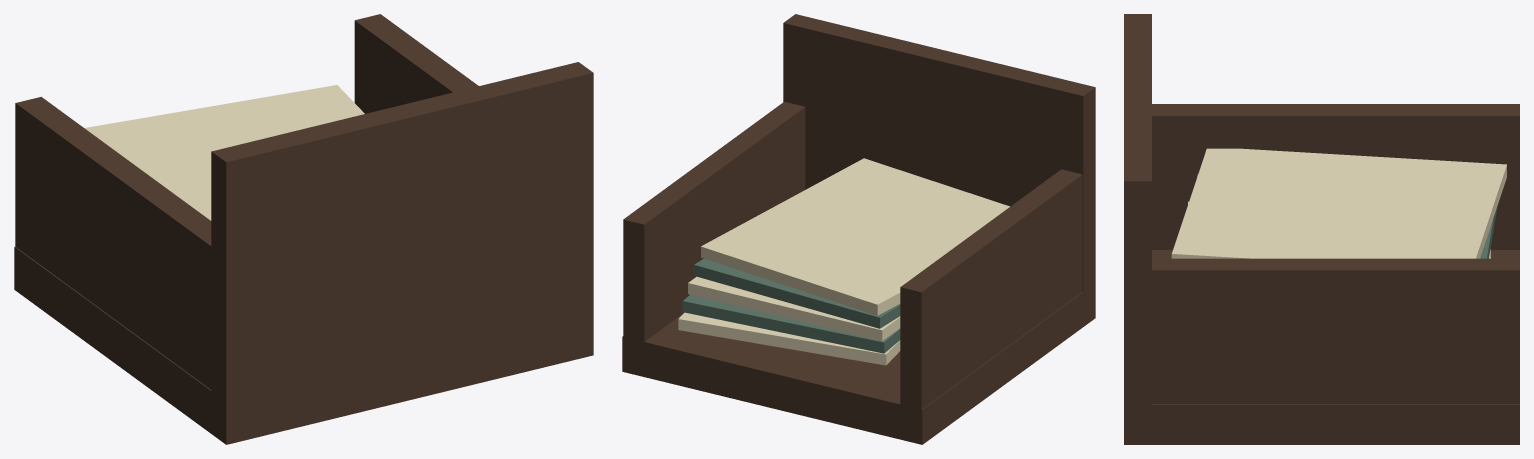
Rendered from LP_BrochureTray.fbx.
3 renders of one model, left to right at view 1: azimuth 30°, elevation 25°; view 2: azimuth 150°, elevation 25°; view 3: azimuth 270°, elevation 25°, orthographic. The views are drawn at different scales.
Visible parts, largest first — view 1: Walnut, WarmIvory; view 2: Walnut, WarmIvory, SageUpholstery; view 3: Walnut, WarmIvory.
Part boxes in pixels (left/top/right/bottom): Walnut: left=14, top=14, right=593, bottom=444; WarmIvory: left=84, top=85, right=364, bottom=220; Walnut: left=622, top=14, right=1095, bottom=444; WarmIvory: left=678, top=158, right=1009, bottom=365; SageUpholstery: left=682, top=258, right=900, bottom=353; Walnut: left=1124, top=14, right=1519, bottom=444; WarmIvory: left=1171, top=148, right=1506, bottom=258.
Size of the model in its own units: 34 by 25 by 34.
